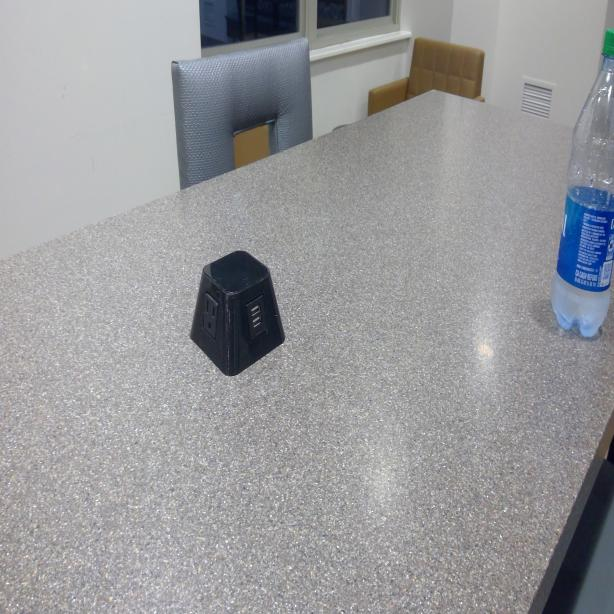typeb: (201, 292, 220, 337)
